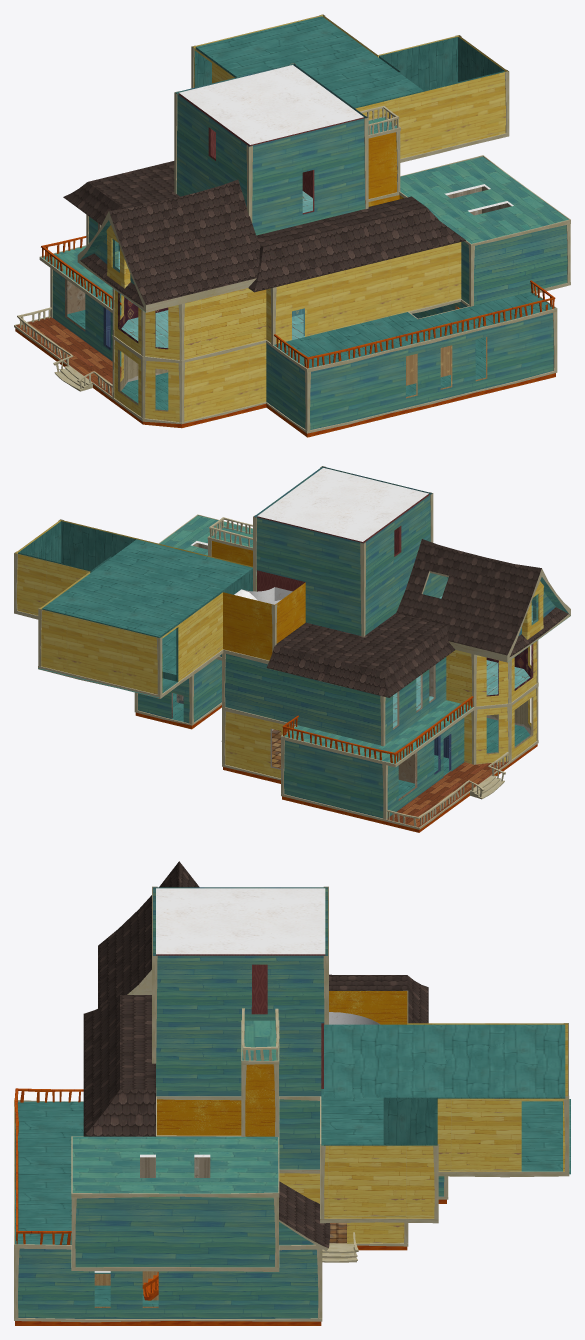
Rendered from hello_neighbor_alpha_3_house_reconstruction.glb.
3 renders of one model, top to bottom at view 1: azimuth 30°, elevation 25°; view 2: azimuth 150°, elevation 25°; view 3: azimuth 270°, elevation 25°, orthographic. The views are drawn at different scales.
Visible parts, largest first — view 1: housealpha3wip.mdl.cleaner.materialmerger.gles_1; view 2: housealpha3wip.mdl.cleaner.materialmerger.gles_1; view 3: housealpha3wip.mdl.cleaner.materialmerger.gles_1.
Part boxes in pixels (box(x1,y1,x2,y2)): housealpha3wip.mdl.cleaner.materialmerger.gles_1: box(14, 14, 570, 437); housealpha3wip.mdl.cleaner.materialmerger.gles_1: box(14, 466, 570, 832); housealpha3wip.mdl.cleaner.materialmerger.gles_1: box(14, 861, 570, 1325).
Size of the model in its own units: 33.31 by 17.22 by 29.47.
29 materials, 29 textured.
